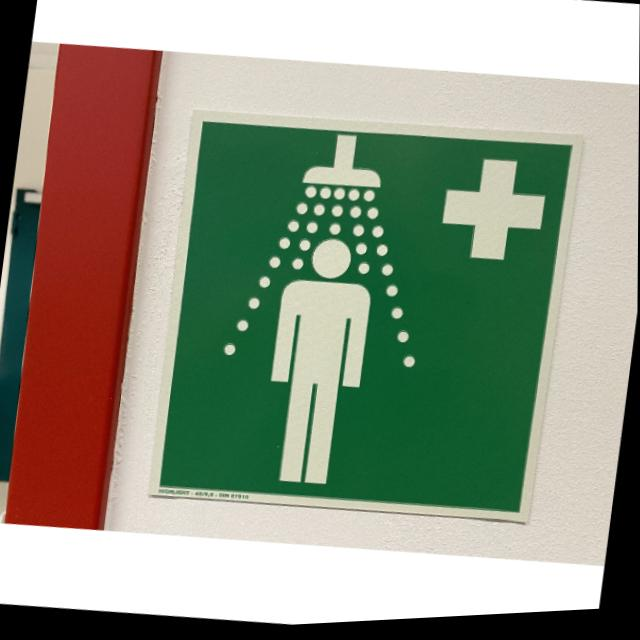shower: (143, 96, 576, 543)
